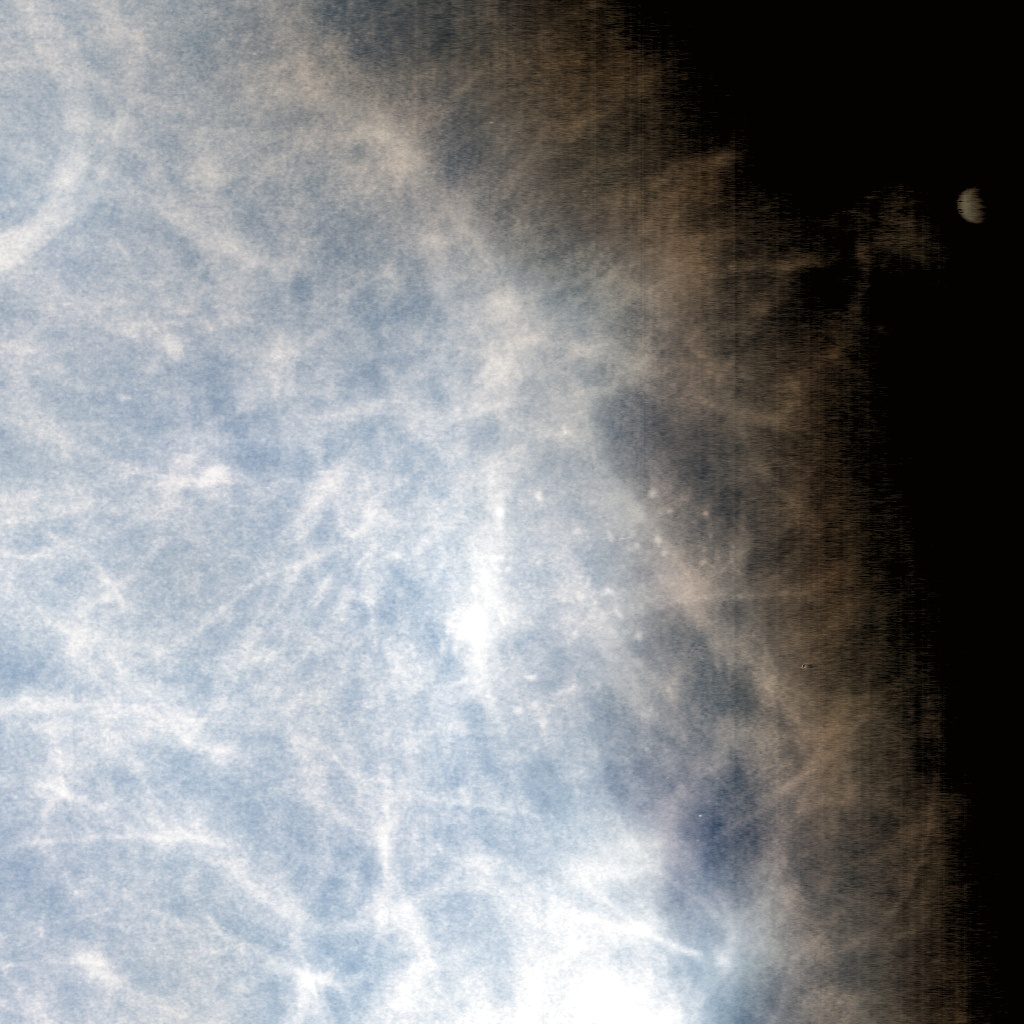tumor: (336, 313, 688, 711)
